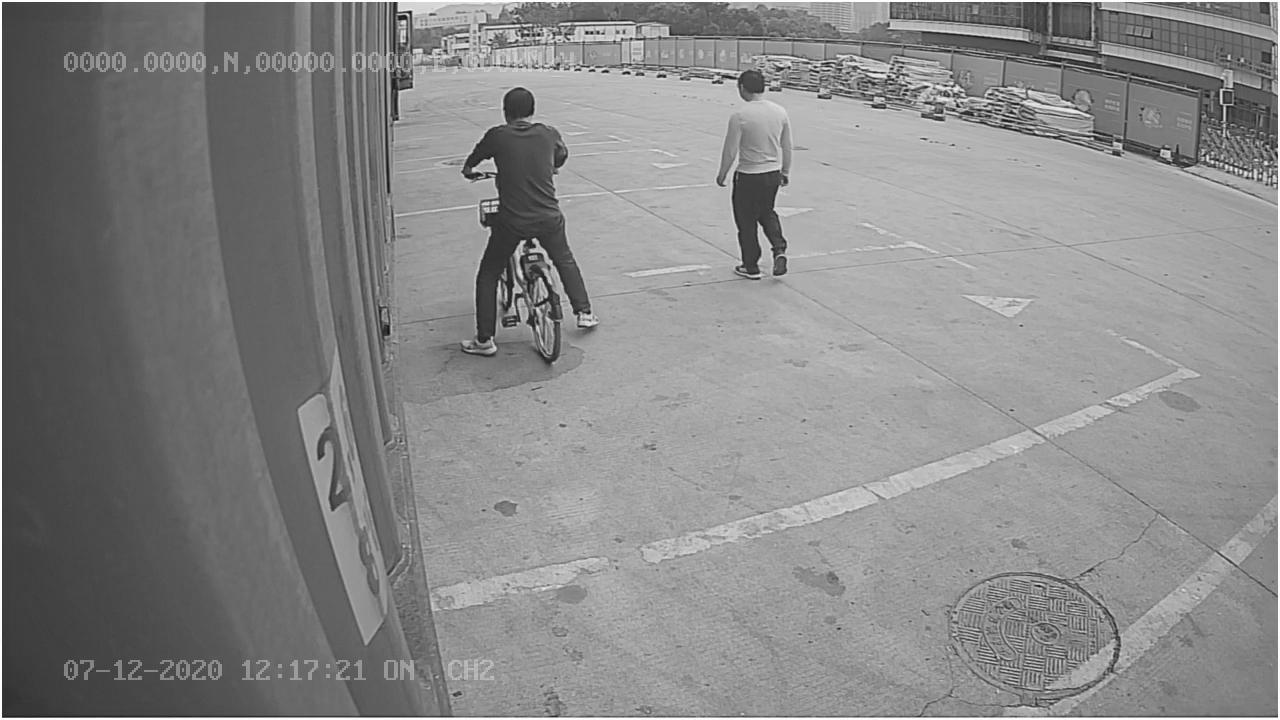person: (714, 62, 800, 284)
